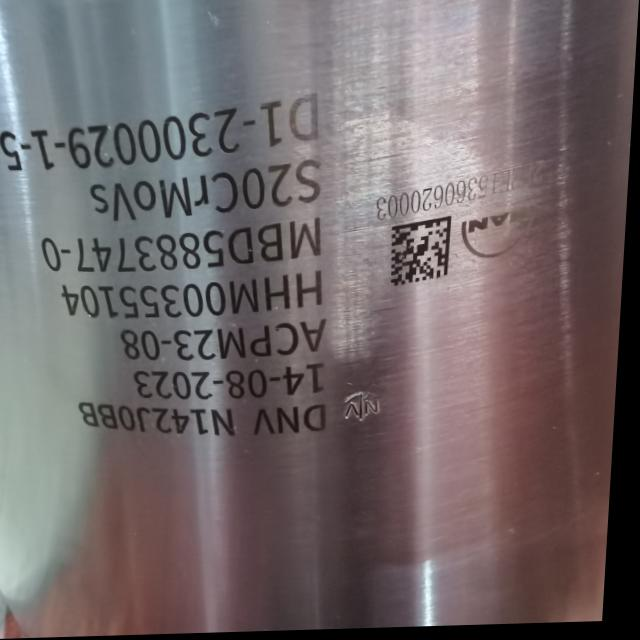dmc: (395, 219, 454, 290)
